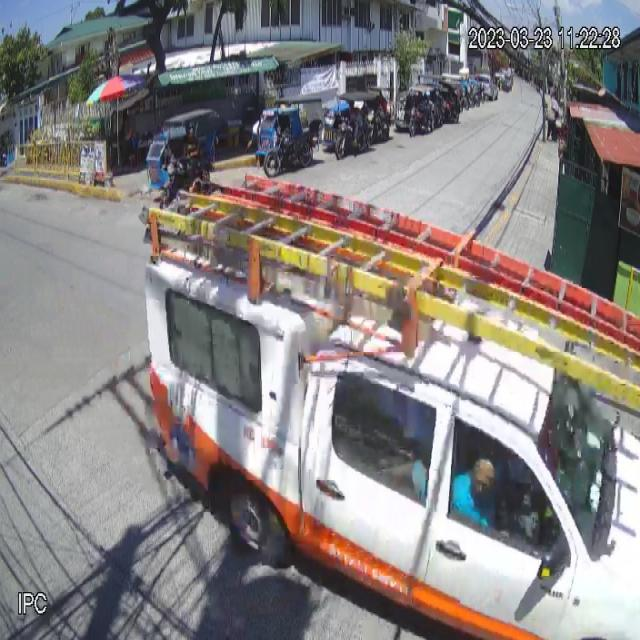Van: (143, 169, 640, 640)
